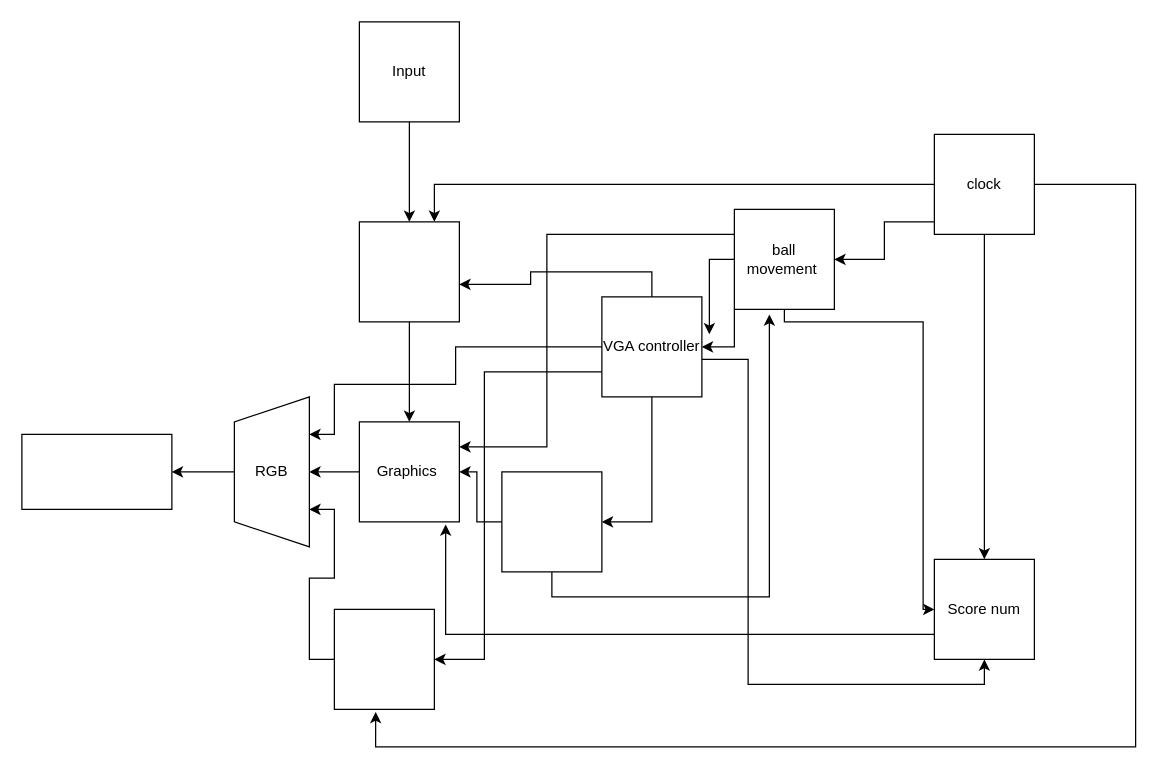
Image size: 1168x779. Some labels were removed from this diagram. Each missing label, with the centre of its shape:
collision sensor: the point at 551,521
Display: the point at 96,471
paddle movement: the point at 408,271
Text generator: the point at 383,658
